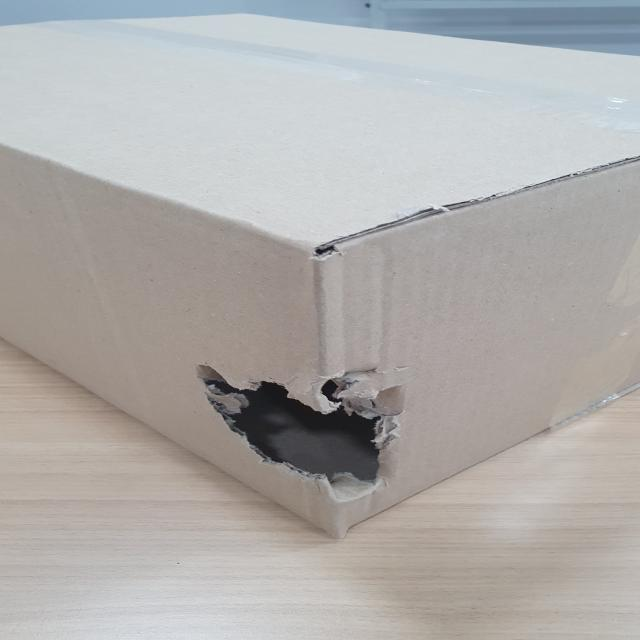hole: (192, 357, 430, 505)
